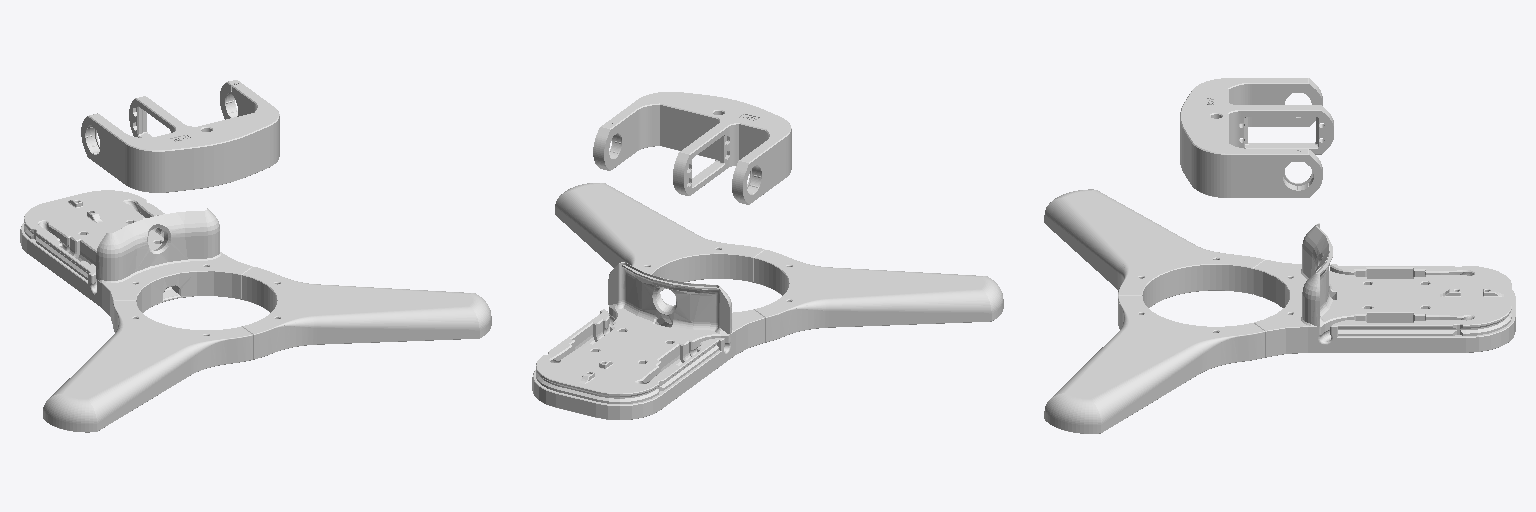
robot.urdf — pib:
<robot name="pib">
    <mujoco>
        <!-- discardvisual is disabled to include both the colliders and the mesh skins -->
        <!-- fusestatic is disabled to allow collision detection with static parts -->
        <compiler meshdir="meshes/" discardvisual="false" fusestatic="false"/>

        <!-- filterparent is disabled to allow collision detection between children and parent links -->
        <option>
            <flag filterparent="disable"/>
        </option> 
    </mujoco>

    <!-- dummy base link -->
    <link name="base_link"></link>

    <!-- pib neck stand -->
    <link name="a50-neck_housing">

        <!-- neck stand visual meshes -->
        <visual>
            <origin xyz="0.11971888691186906295 0.46323513984931374843 0.99096097109622949262"
                rpy="1.9721522630525295135e-31 9.8607613152626409991e-32 -2.0943951023931948185" />
            <geometry>
                <mesh filename="package://pib_head_module/a83-stand-front.stl" />
            </geometry>
            <material name="a83-stand-front_material">
                <color
                    rgba="0.90196078431372550543 0.90196078431372550543 0.90196078431372550543 1.0" />
            </material>
        </visual>
        <visual>
            <origin xyz="0.11971888691186904907 0.46323513984680175781 0.99096097109527581104"
                rpy="0 -0 0" />
            <geometry>
                <mesh filename="package://pib_head_module/a83-stand-front.stl" />
            </geometry>
            <material name="a83-stand-front_material">
                <color
                    rgba="0.90196078431372550543 0.90196078431372550543 0.90196078431372550543 1.0" />
            </material>
        </visual>
        <visual>
            <origin xyz="0.11971888691186904907 0.46323513984680175781 1.008960971095275827"
                rpy="0 -0 0" />
            <geometry>
                <mesh filename="package://pib_head_module/a50-neck_housing.stl" />
            </geometry>
            <material name="a50-neck_housing_material">
                <color
                    rgba="0.90196078431372550543 0.90196078431372550543 0.90196078431372550543 1.0" />
            </material>
        </visual>
        <visual>
            <origin xyz="0.11972018267952463932 0.46323439173750902143 0.99096089699770351089"
                rpy="-1.3210915155903764221e-32 -2.2009720256975923003e-31 2.2759572004815693301e-15" />
            <geometry>
                <mesh filename="package://pib_head_module/a81-stand-back.stl" />
            </geometry>
            <material name="a81-stand-back_material">
                <color
                    rgba="0.90196078431372550543 0.90196078431372550543 0.90196078431372550543 1.0" />
            </material>
        </visual>

        <!-- neck stand collision elements -->
        <collision>
            <origin xyz="0.020125988694263824419 0.40573518006338554764 1.0009609710962295015"
                rpy="1.8400427133312982369e-31 -1.2148955226807858897e-31 -1.0471977530888869623" />
            <geometry>
                <box size="0.050000000000000002776 0.14000000000000001332 0.020000000000000000416" />
            </geometry>
        </collision>
        <collision>
            <origin xyz="0.21931176191186901869 0.40573513984680176225 1.0009609710952758199"
                rpy="0 -0 1.0471973493043078562" />
            <geometry>
                <box size="0.050000000000000002776 0.14000000000000001332 0.020000000000000000416" />
            </geometry>
        </collision>
        <collision>
            <origin xyz="0.1197201826795244034 0.56573439173750905695 1.0009608969977035198"
                rpy="-1.3210915155903764221e-32 -2.2009720256975923003e-31 2.2759572004815693301e-15" />
            <geometry>
                <box size="0.10000000000000000555 0.15499999999999999889 0.020000000000000000416" />
            </geometry>
        </collision>
        <collision>
            <origin xyz="0.11971888691186904907 0.46323513984680175781 1.053960971095275756"
                rpy="0 -0 0" />
            <geometry>
                <cylinder length="0.089999999999999996669" radius="0.035000000000000003331" />
            </geometry>
        </collision>

        <!-- neck stand inertial element -->
        <inertial>
            <origin xyz="0.11971911590141257054 0.46323586107332553885 1.0387464656991842737"
                rpy="0 0 0" />
            <mass value="0.18111876951565966665" />
            <inertia ixx="0.00030525479701904703524" ixy="8.135975214172682227e-09"
                ixz="-4.2037049133108491568e-09" iyy="0.00030526111491189670622"
                iyz="8.7224014998572288865e-10" izz="0.00035887760835777329609" />
        </inertial>
    </link>

    <!-- pib head base -->
    <link name="urdf_head_base">

        <!-- pib head base visual mesh -->
        <visual>
            <origin xyz="0 -0.083390000000000019664 -0.046599999999999974776"
                rpy="3.141592653589793116 -0 0" />
            <geometry>
                <mesh filename="package://pib_head_module/urdf_head_base.stl" />
            </geometry>
            <material name="urdf_head_base_material">
                <color
                    rgba="0.90196078431372550543 0.90196078431372550543 0.90196078431372550543 1.0" />
            </material>
        </visual>

        <!-- pib head base collision elements -->
        <collision>
            <origin xyz="-0.00020000000000000572875 0.025109999999999979559 -0.01459999999999997411"
                rpy="3.141592653589793116 -0 0" />
            <geometry>
                <box size="0.11000000000000000056 0.092999999999999999334 0.02999999999999999889" />
            </geometry>
        </collision>

        <!-- pib head base inertial element -->
        <inertial>
            <origin
                xyz="0.00084453312171220472696 0.0054549791054532698054 -0.015012590515738548358"
                rpy="0 0 0" />
            <mass value="0.1407332196056315099" />
            <inertia ixx="6.8301393138811349959e-05" ixy="-3.5603263798047428214e-06"
                ixz="-1.5702005793078419759e-08" iyy="0.00017143015354827780168"
                iyz="-8.7198135009501986857e-08" izz="0.00021767956241075915938" />
        </inertial>
    </link>

    <!-- pib head -->
    <link name="urdf_head">

        <!-- pib head visual mesh -->
        <visual>
            <origin xyz="0.13339000000000006407 0.031599999999999850431 0.055279999999999995808"
                rpy="-1.570796326794896558 -1.570796326794896558 0" />
            <geometry>
                <mesh filename="package://pib_head_module/urdf_head.stl" />
            </geometry>
            <material name="urdf_head_material">
                <color
                    rgba="0.90196078431372550543 0.90196078431372550543 0.90196078431372550543 1.0" />
            </material>
        </visual>

        <!-- pib head collision elements -->
        <collision>
            <origin xyz="0.15089000000000007962 0.063599999999999851097 0.055279999999999995808"
                rpy="-1.570796326794896558 -1.570796326794896558 0" />
            <geometry>
                <box size="0.23000000000000000999 0.014999999999999999445 0.2000000000000000111" />
            </geometry>
        </collision>
        <collision>
            <origin xyz="0.086890000000000064406 0.097599999999999853539 -0.047220000000000011964"
                rpy="-1.570796326794896558 -1.570796326794896558 0" />
            <geometry>
                <box size="0.025000000000000001388 0.14299999999999998823 0.13200000000000000622" />
            </geometry>
        </collision>
        <collision>
            <origin xyz="0.086890000000000064406 0.097599999999999853539 0.15777999999999997582"
                rpy="-1.570796326794896558 -1.570796326794896558 0" />
            <geometry>
                <box size="0.025000000000000001388 0.14299999999999998823 0.13200000000000000622" />
            </geometry>
        </collision>
        <collision>
            <origin xyz="0.086890000000000064406 0.15109999999999984555 0.055279999999999995808"
                rpy="-1.570796326794896558 -1.570796326794896558 0" />
            <geometry>
                <box size="0.23000000000000000999 0.14299999999999998823 0.025000000000000001388" />
            </geometry>
        </collision>

        <!-- pib head inertial element -->
        <inertial>
            <origin xyz="0.098817021835589963219 0.072010611053783507574 0.055527940061449038156"
                rpy="0 0 0" />
            <mass value="0.15000000000000038303" />
            <inertia ixx="0.0010770836334109677203" ixy="-3.6887597283857953144e-05"
                ixz="-4.5149123406799000247e-08" iyy="0.0011072239979684648722"
                iyz="2.8871692117452927309e-06" izz="0.00073482206415244832008" />
        </inertial>
    </link>

    <!-- joint definitions -->
    <joint name="base_link_to_base" type="fixed">
        <parent link="base_link" />
        <child link="a50-neck_housing" />
        <origin rpy="0.0 0 0" xyz="0 0 0" />
    </joint>

    <joint name="head_vertical" type="revolute">
        <origin xyz="-0.055279999999999995808 0.050000000000000044409 -0.0149999999999999023"
            rpy="-1.570796326794896558 -0 -1.570796326794896558" />
        <parent link="urdf_head_base" />
        <child link="urdf_head" />
        <axis xyz="0 0 1" />
        <limit effort="1" velocity="20" />
        <joint_properties friction="0.0" />
    </joint>

    <joint name="head_horizontal" type="revolute">
        <origin xyz="0.11971888691186904907 0.46323513984680175781 1.0997109710952759354"
            rpy="3.141592653589793116 -0 3.141592653589793116" />
        <parent link="a50-neck_housing" />
        <child link="urdf_head_base" />
        <axis xyz="0 0 1" />
        <limit effort="1" velocity="20" />
        <joint_properties friction="0.0" />
    </joint>

</robot>

--- What the picture shows (computed from the rendered views, not written in the file) ---
Views: 3 orthographic renders of the robot side by side, from view 1: azimuth 30°, elevation 25°; view 2: azimuth 150°, elevation 25°; view 3: azimuth 270°, elevation 25°.
Model pib with 4 links and 3 joints (2 revolute, 1 fixed), rooted at base_link, posed all joints at 0.
Links seen in each view (by area): view 1: a50-neck_housing, urdf_head_base; view 2: a50-neck_housing, urdf_head_base; view 3: a50-neck_housing, urdf_head_base.
Link boxes in pixels (x1=…): a50-neck_housing: x1=20, y1=190, x2=491, y2=432; urdf_head_base: x1=81, y1=80, x2=279, y2=192; a50-neck_housing: x1=532, y1=183, x2=1003, y2=419; urdf_head_base: x1=593, y1=92, x2=791, y2=204; a50-neck_housing: x1=1044, y1=189, x2=1515, y2=433; urdf_head_base: x1=1180, y1=78, x2=1333, y2=197.
Size in the robot's own frame: 0.3241 by 0.2873 by 0.1388 metres.
Meshes: 5 distinct files referenced, 4 mesh visuals loaded (3 binary STL); not drawn: 2 (reference not matched to a file when rendering).